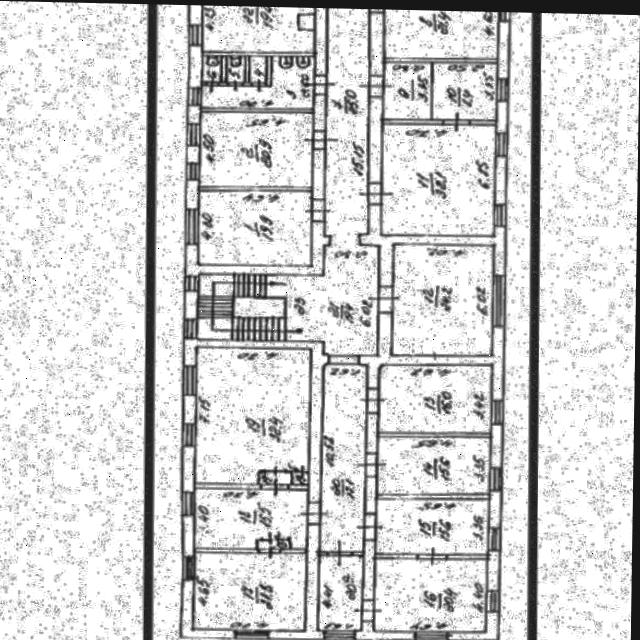room: (198, 5, 386, 356), (196, 348, 311, 485), (385, 125, 497, 235), (395, 245, 493, 355), (195, 552, 307, 629), (322, 365, 368, 550), (202, 112, 314, 186), (201, 191, 313, 263), (376, 559, 487, 631), (380, 365, 492, 431), (196, 489, 308, 547), (380, 436, 491, 494), (379, 499, 488, 554), (203, 55, 314, 108), (386, 9, 498, 57), (203, 5, 315, 50), (435, 63, 498, 120), (321, 556, 362, 629), (386, 63, 432, 119), (228, 55, 247, 82), (204, 57, 221, 81), (251, 57, 267, 82), (260, 472, 291, 483), (294, 473, 308, 484)
